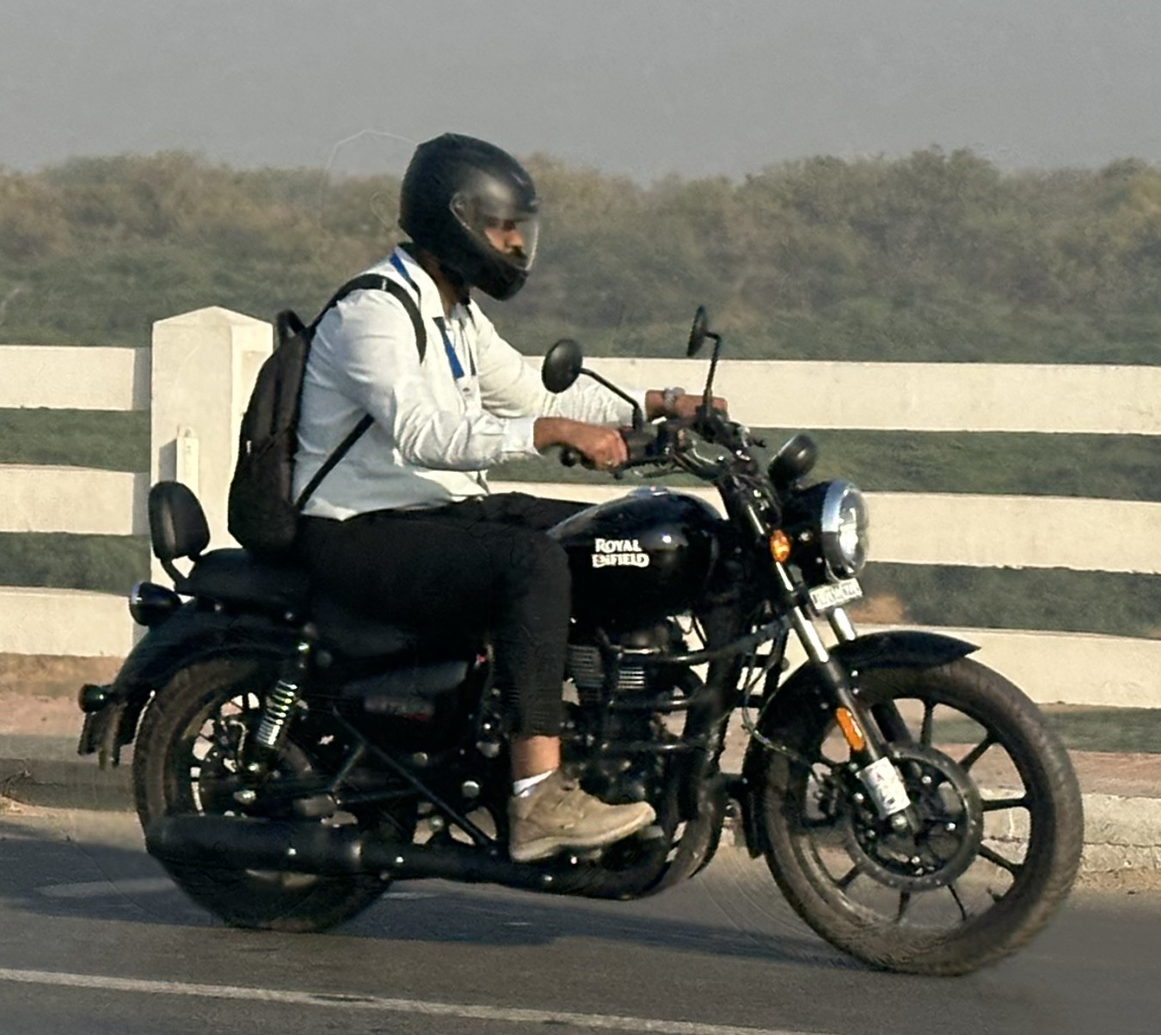BikeWithRider: (64, 116, 1101, 989)
Helmet: (380, 119, 560, 309)
